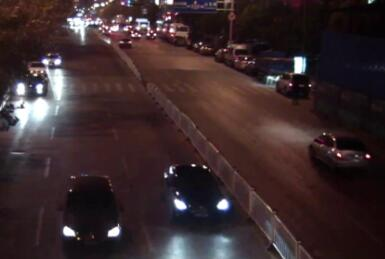bus: (157, 18, 189, 45), (133, 16, 149, 33)
car: (55, 172, 122, 251), (160, 163, 230, 226), (308, 133, 371, 174), (255, 48, 295, 81), (10, 69, 48, 99), (274, 71, 312, 98), (224, 41, 251, 67), (235, 52, 253, 72), (26, 59, 47, 76), (43, 51, 62, 68), (194, 37, 210, 52), (213, 46, 226, 61), (117, 36, 132, 48), (145, 28, 158, 40), (100, 24, 113, 35), (129, 28, 141, 39)
